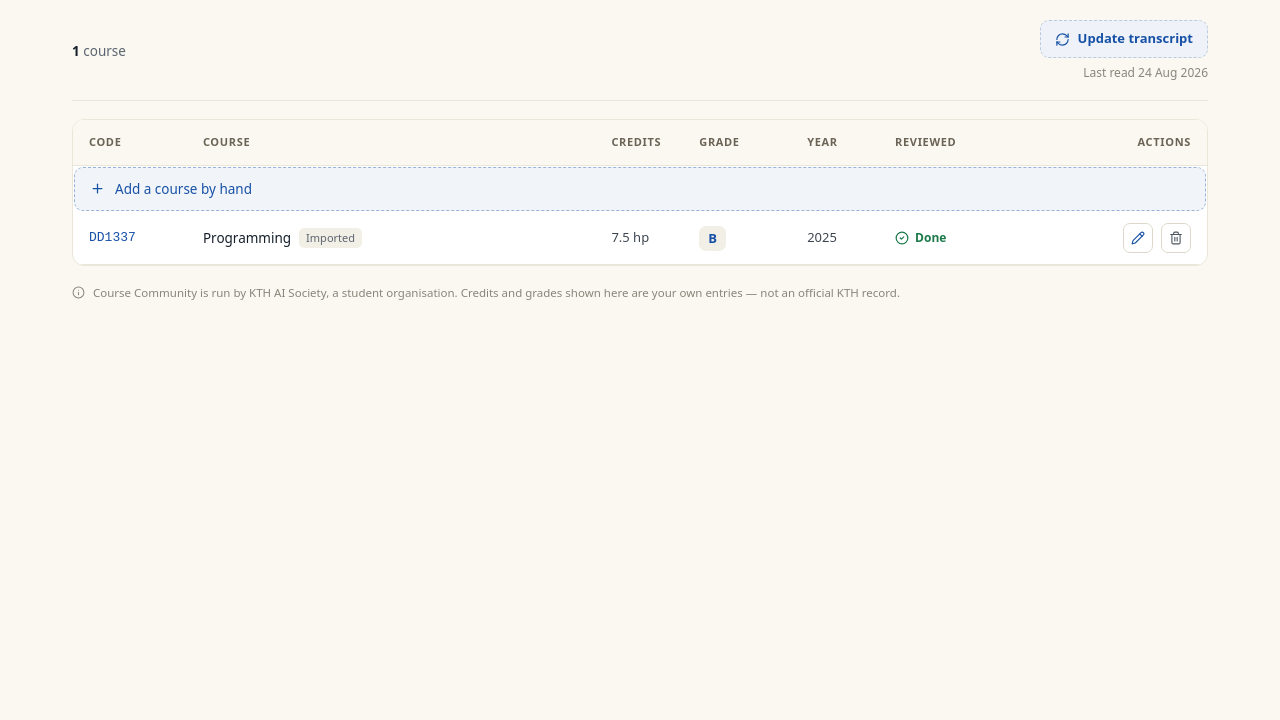
Test case: removing › says an imported row cannot be put back in a tap
Click the button named "Remove DD1337 from your taken courses" at (1176, 238), box x1=1161 y1=223 x2=1191 y2=253
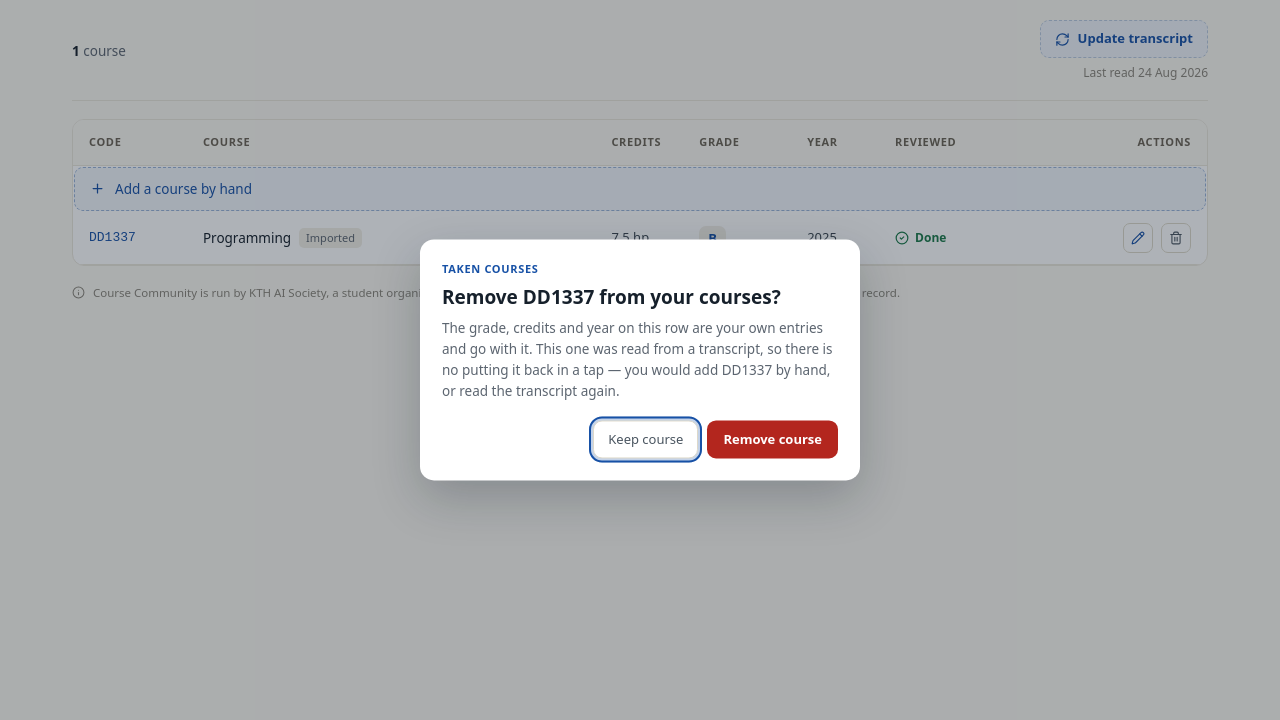
expect the text "read from a transcript" is shown: met, box x1=442 y1=320 x2=832 y2=401
